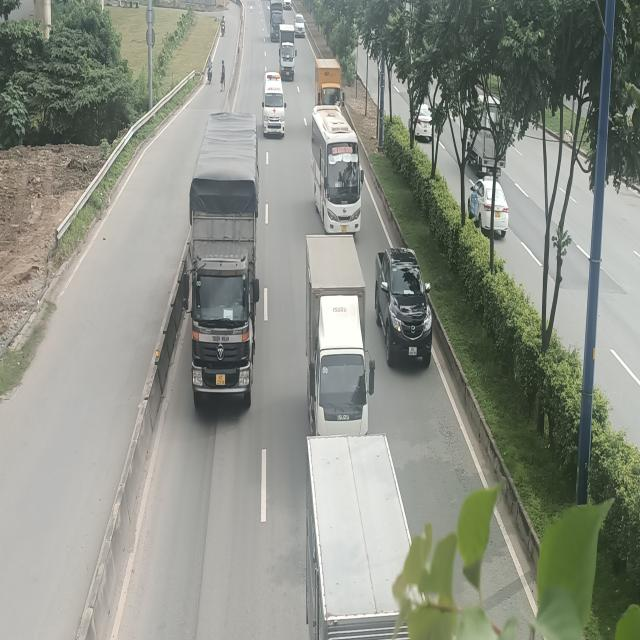car: (374, 245, 433, 370), (294, 13, 305, 37)
coach: (310, 103, 365, 233)
truck: (182, 111, 260, 406), (304, 235, 375, 437), (278, 24, 297, 80)
van: (261, 70, 286, 136)
